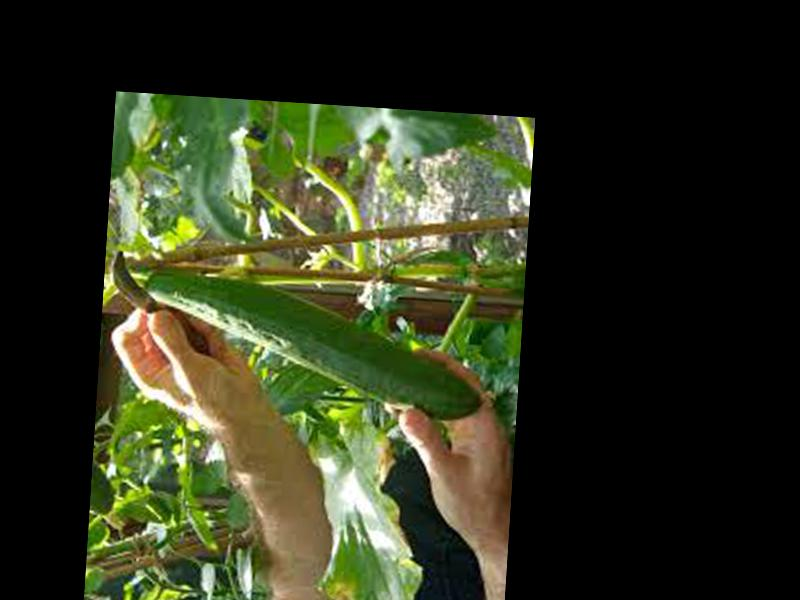Cucumber: (140, 268, 487, 421)
